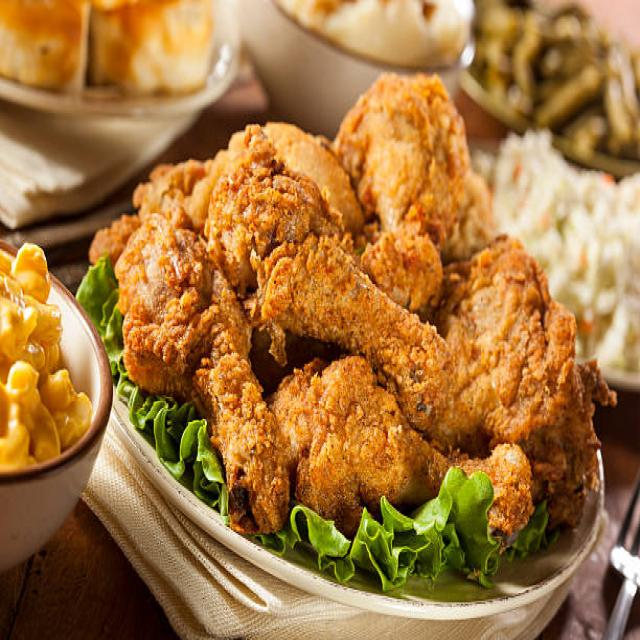Frango: (88, 70, 621, 570)
